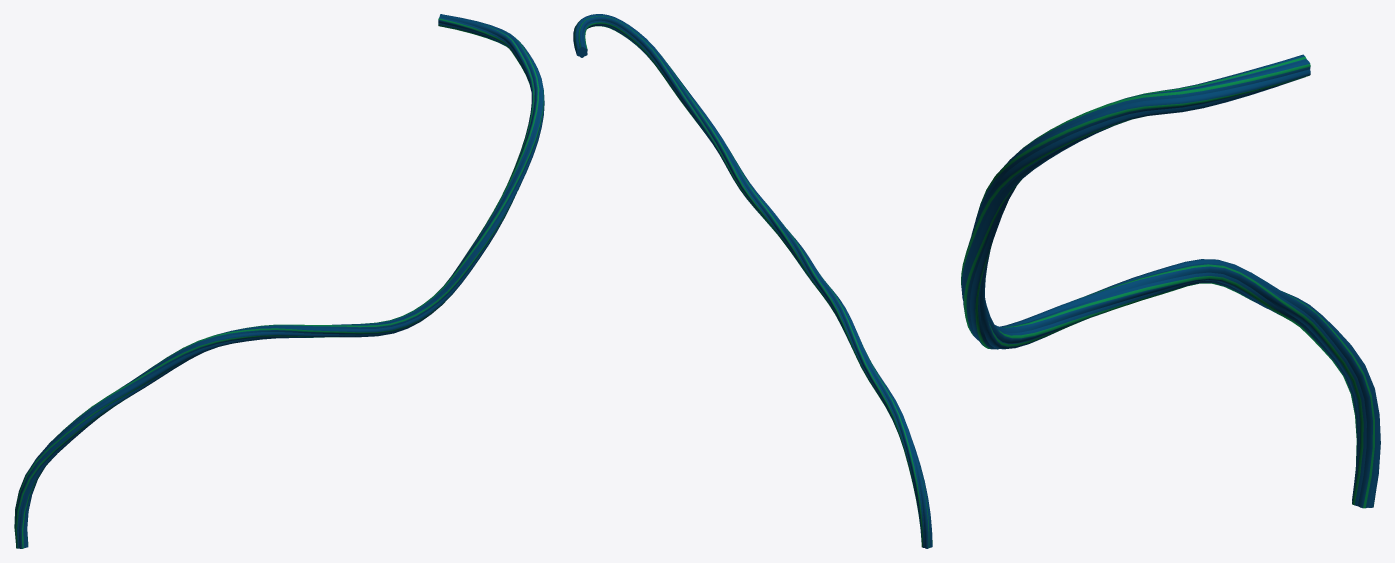
Rendered from cables 6.FBX.
3 renders of one model, left to right at view 1: azimuth 30°, elevation 25°; view 2: azimuth 150°, elevation 25°; view 3: azimuth 270°, elevation 25°, orthographic. The views are drawn at different scales.
Visible parts, largest first — view 1: Nouveau cables 6; view 2: Nouveau cables 6; view 3: Nouveau cables 6.
Boxes of the visible parts, x1,y1,x2,y2 form: Nouveau cables 6: (14,14,544,548); Nouveau cables 6: (573,14,932,548); Nouveau cables 6: (961,54,1380,508).
Bounding box in the file's own units: 644 × 616 × 292.
